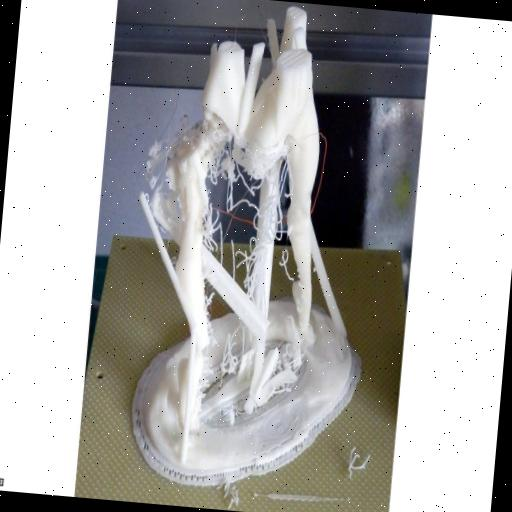spaghetti: (131, 102, 202, 216), (208, 159, 264, 279), (206, 318, 246, 402), (258, 340, 308, 404), (276, 244, 292, 314)
